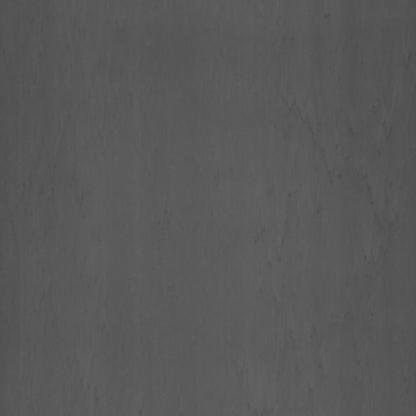silk_spot: (257, 59, 396, 345)
